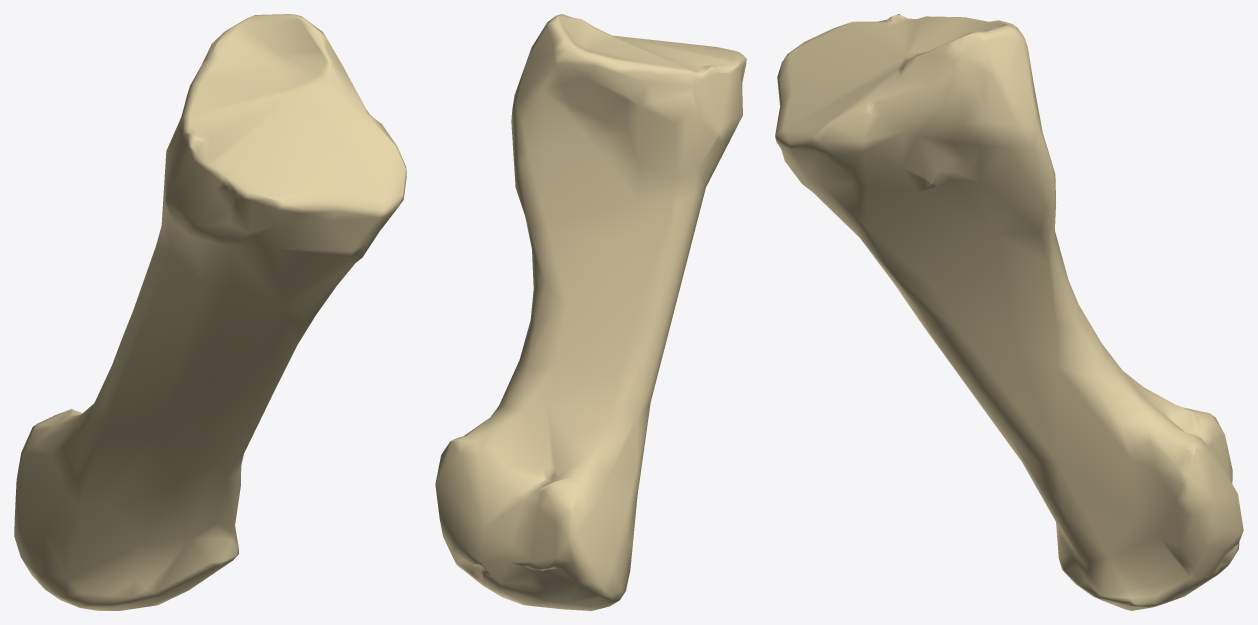
The picture shows the model from 3 angles, left to right: view 1: azimuth 30°, elevation 25°; view 2: azimuth 150°, elevation 25°; view 3: azimuth 270°, elevation 25°; orthographic projection. The views are drawn at different scales.
Visible parts, largest first — view 1: 左侧第一跖骨; view 2: 左侧第一跖骨; view 3: 左侧第一跖骨.
Part boxes in pixels (x1=…): 左侧第一跖骨: x1=14, y1=14, x2=406, y2=610; 左侧第一跖骨: x1=435, y1=14, x2=746, y2=610; 左侧第一跖骨: x1=775, y1=14, x2=1243, y2=610.
Bounding box in the file's own units: 0.0322 × 0.0937 × 0.0661.
